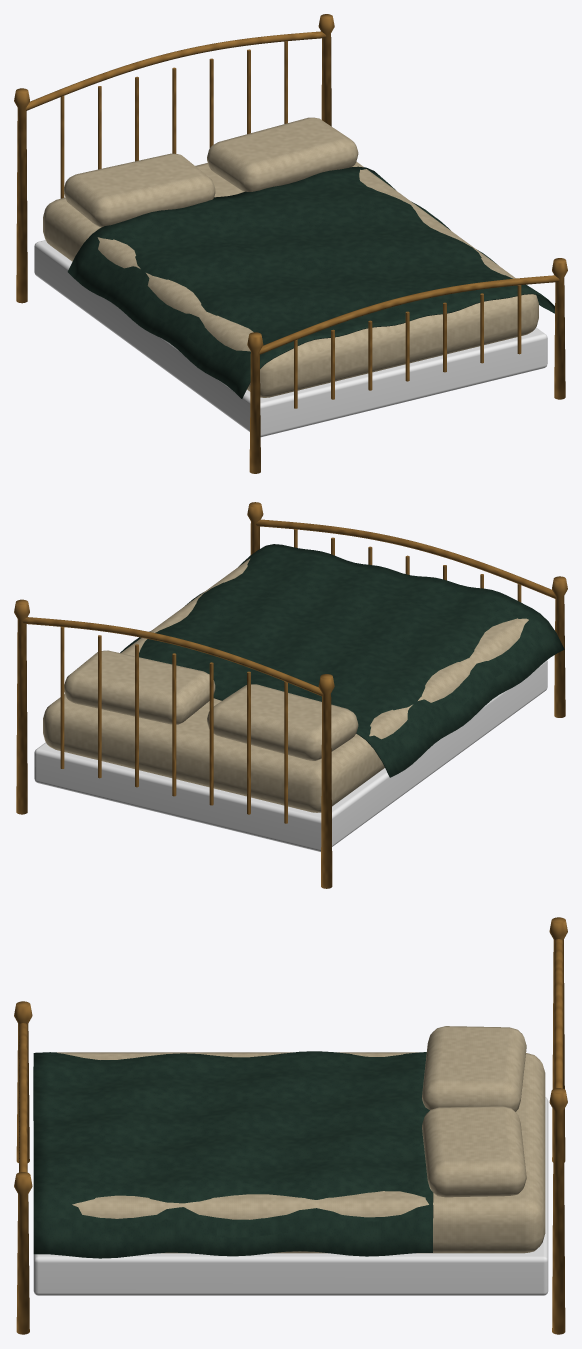
File: GuestBed.fbx
The picture shows the model from 3 angles, top to bottom: view 1: azimuth 30°, elevation 25°; view 2: azimuth 150°, elevation 25°; view 3: azimuth 270°, elevation 25°; orthographic projection. The views are drawn at different scales.
Parts seen in each view (by area): view 1: GuestBed_Leather, GuestBed_Linen, GuestBed_Walnut, GuestBed_Brass; view 2: GuestBed_Leather, GuestBed_Linen, GuestBed_Walnut, GuestBed_Brass; view 3: GuestBed_Leather, GuestBed_Linen, GuestBed_Walnut, GuestBed_Brass.
Boxes of the visible parts, x1=… form: GuestBed_Leather: x1=67, y1=166, x2=554, y2=398; GuestBed_Linen: x1=43, y1=117, x2=538, y2=397; GuestBed_Walnut: x1=34, y1=240, x2=547, y2=437; GuestBed_Brass: x1=14, y1=14, x2=567, y2=473; GuestBed_Leather: x1=120, y1=544, x2=564, y2=777; GuestBed_Linen: x1=43, y1=558, x2=528, y2=812; GuestBed_Walnut: x1=34, y1=660, x2=547, y2=851; GuestBed_Brass: x1=14, y1=502, x2=567, y2=888; GuestBed_Leather: x1=33, y1=1051, x2=433, y2=1258; GuestBed_Linen: x1=57, y1=1026, x2=545, y2=1253; GuestBed_Walnut: x1=33, y1=1097, x2=548, y2=1295; GuestBed_Brass: x1=14, y1=917, x2=567, y2=1334.
Bounding box in the file's own units: 208 × 130 × 269.
